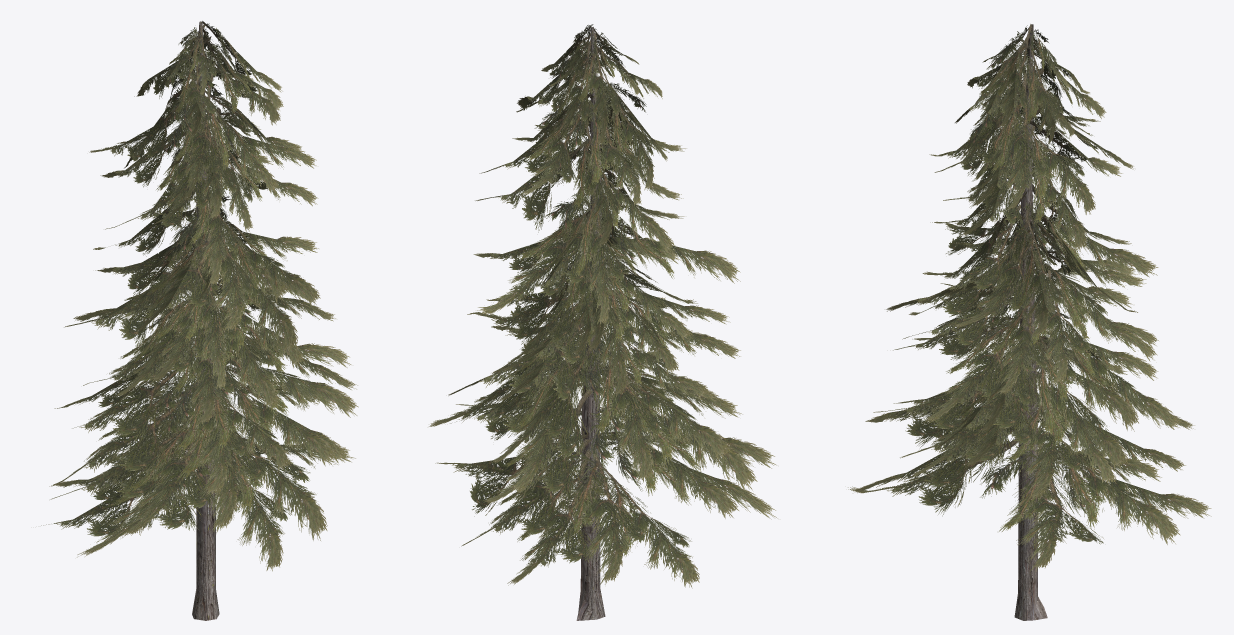
The model's file is tree2.glb.
3 renders of one model, left to right at view 1: azimuth 30°, elevation 25°; view 2: azimuth 150°, elevation 25°; view 3: azimuth 270°, elevation 25°, orthographic.
Visible parts, largest first — view 1: bark; view 2: bark; view 3: bark.
Boxes of the visible parts, box(x1,y1,x2,y2) form: bark: box(41, 21, 358, 620); bark: box(429, 24, 777, 620); bark: box(848, 24, 1211, 620).
Bounding box in the file's own units: 5.98 × 9.96 × 5.95.
Materials: 1 (1 with a texture image).
